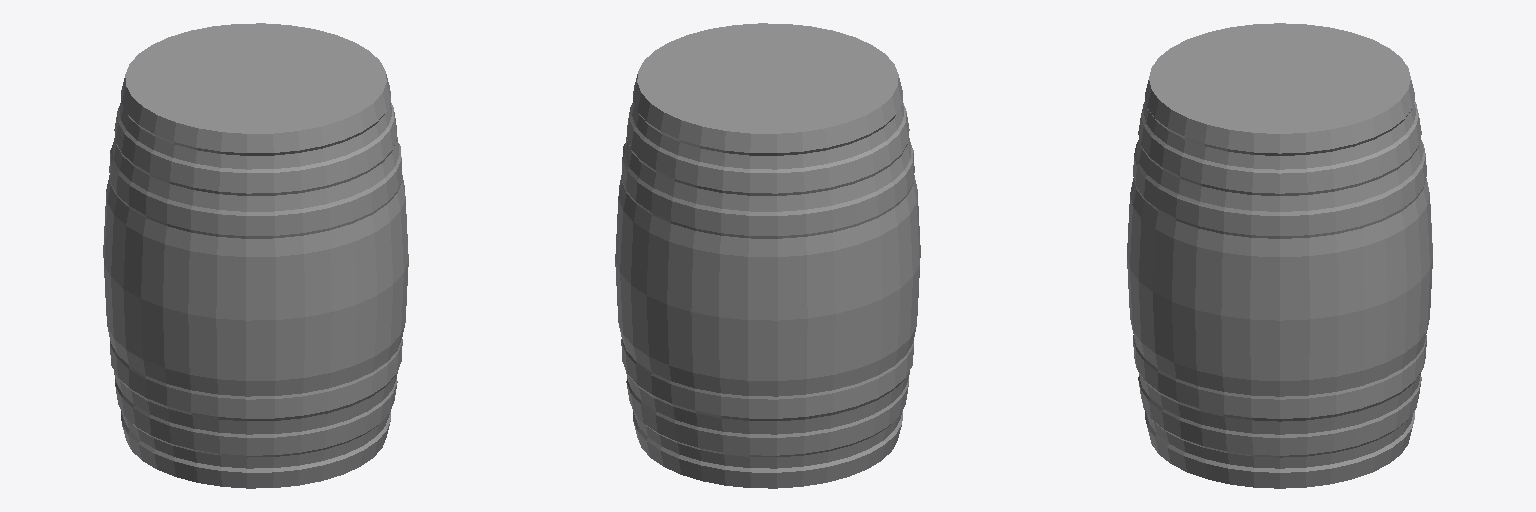
The model's file is barrel.obj.
3 renders of one model, left to right at view 1: azimuth 30°, elevation 25°; view 2: azimuth 150°, elevation 25°; view 3: azimuth 270°, elevation 25°, orthographic.
Parts seen in each view (by area): view 1: Mesh_Cylinder.001; view 2: Mesh_Cylinder.001; view 3: Mesh_Cylinder.001.
Part boxes in pixels (x1,y1,x2,y2): Mesh_Cylinder.001: (103,23,408,488); Mesh_Cylinder.001: (615,23,920,488); Mesh_Cylinder.001: (1127,23,1432,488).
Size of the model in its own units: 9.44 by 12.06 by 9.44.